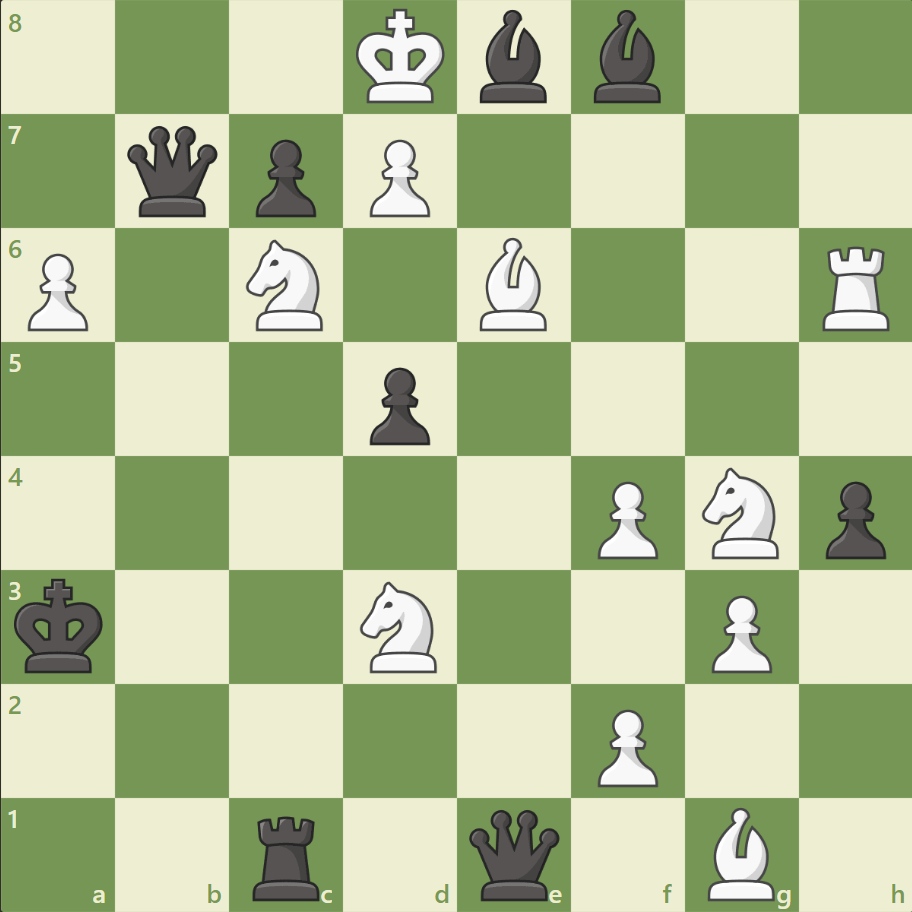B: (471, 233, 555, 336), (698, 801, 782, 904)
K: (351, 4, 451, 112)
N: (351, 575, 449, 677), (238, 234, 335, 337), (692, 461, 789, 564)
P: (20, 246, 95, 337), (701, 586, 776, 677), (361, 132, 435, 223), (588, 473, 662, 564), (588, 700, 662, 791)
R: (814, 239, 897, 336)
b: (471, 6, 555, 109), (585, 6, 669, 109)
k: (11, 571, 111, 679)
p: (247, 132, 322, 223), (361, 359, 435, 450), (815, 473, 889, 564)
q: (124, 122, 223, 222), (464, 804, 563, 903)
r: (246, 806, 329, 904)
